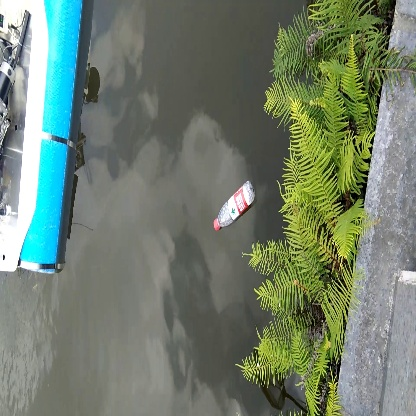bottle: (209, 179, 259, 234)
